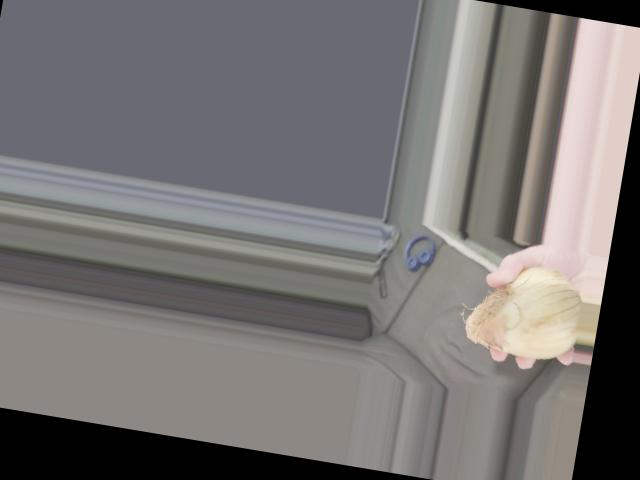onion: (459, 257, 580, 364)
